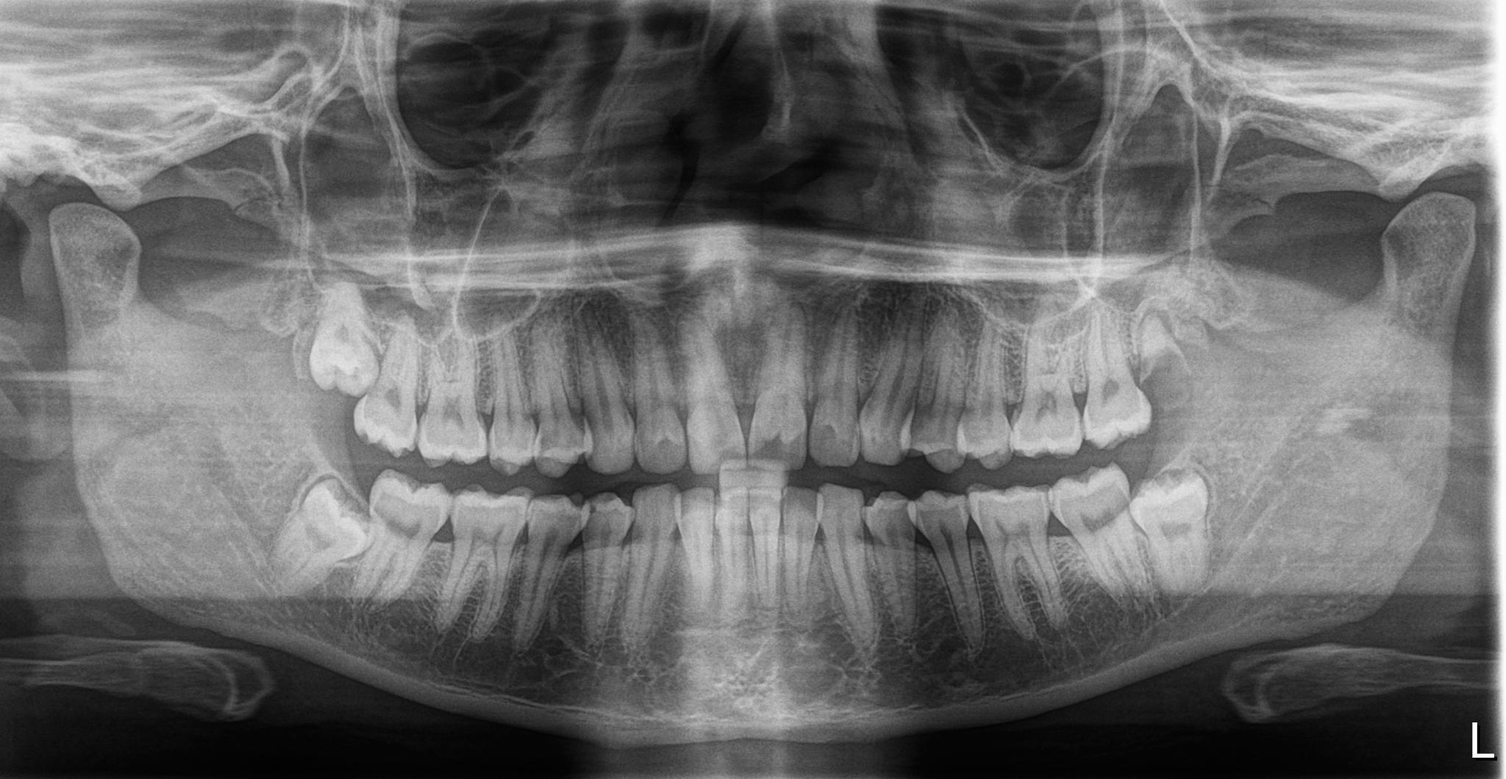Dental Caries: (722, 401, 811, 462)
Impacted Third Molar: (1136, 487, 1226, 584), (276, 478, 360, 571), (313, 292, 376, 399)
Retained Root: (1132, 314, 1202, 424)
